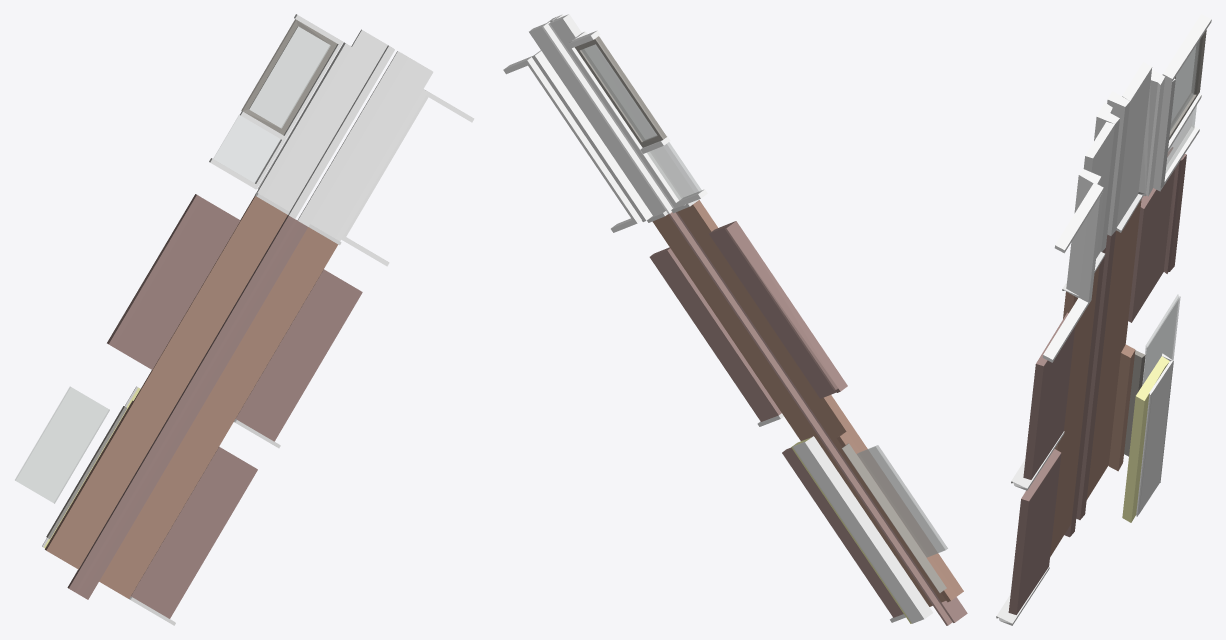
The picture shows the model from 3 angles, left to right: view 1: azimuth 30°, elevation 25°; view 2: azimuth 150°, elevation 25°; view 3: azimuth 270°, elevation 25°; orthographic projection. The views are drawn at different scales.
Parts seen in each view (by area): view 1: mesh; view 2: mesh; view 3: mesh.
Part boxes in pixels (<box>): mesh: <box>15,14,474,625</box>; mesh: <box>503,14,967,625</box>; mesh: <box>996,14,1211,625</box>.
Size of the model in its own units: 7.11 by 8.29 by 2.17.
